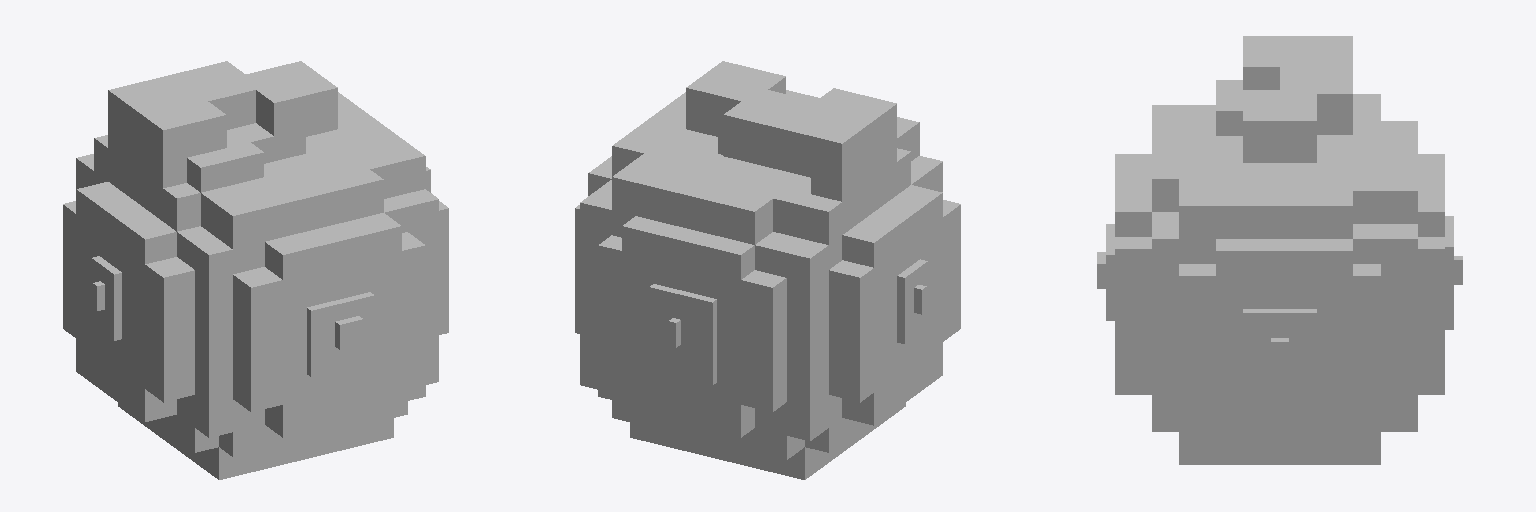
The model's file is apple-0-apple_10x11x10 (10).obj.
3 views of the same model, side by side, from view 1: azimuth 30°, elevation 25°; view 2: azimuth 150°, elevation 25°; view 3: azimuth 270°, elevation 25° (orthographic).
Parts seen in each view (by area): view 1: apple_10x11x10 (10); view 2: apple_10x11x10 (10); view 3: apple_10x11x10 (10).
Boxes of the visible parts, x1=… form: apple_10x11x10 (10): x1=63, y1=61, x2=448, y2=479; apple_10x11x10 (10): x1=575, y1=61, x2=960, y2=479; apple_10x11x10 (10): x1=1097, y1=36, x2=1462, y2=464.
Size of the model in its own units: 4 by 4 by 4.